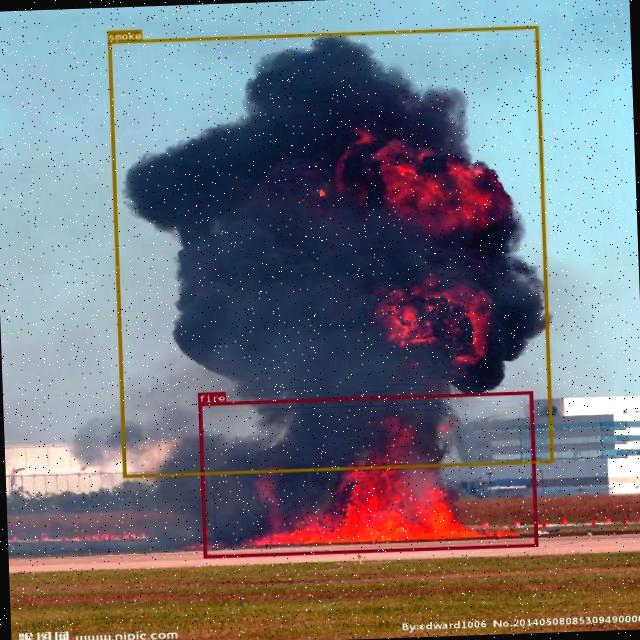fire: (198, 390, 537, 557)
smoke: (107, 24, 552, 477)
